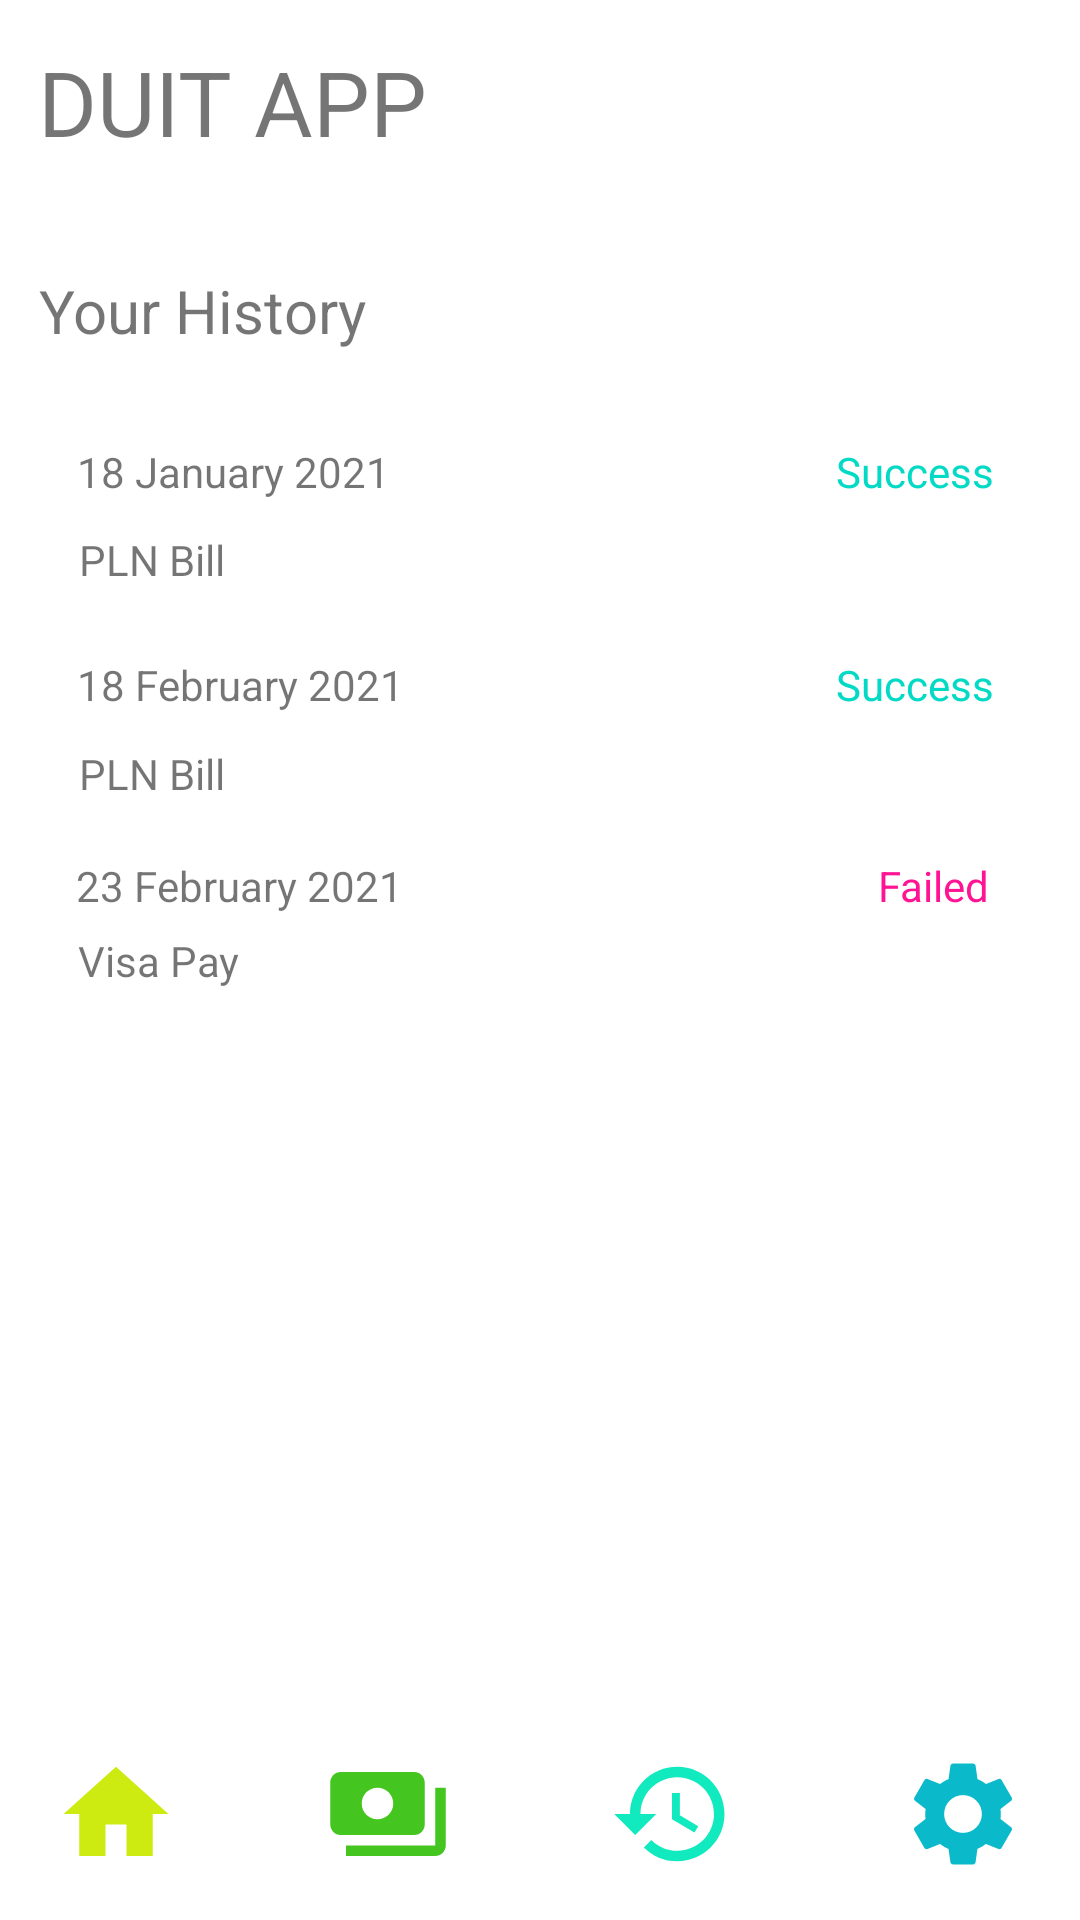

Screen size 1080 x 1920. Icon name, then its box in pixels as (x1, y1, x2, y2):
history: (614, 1766, 725, 1862)
home: (64, 1767, 168, 1856)
payments: (330, 1772, 446, 1856)
settings: (914, 1763, 1012, 1865)
